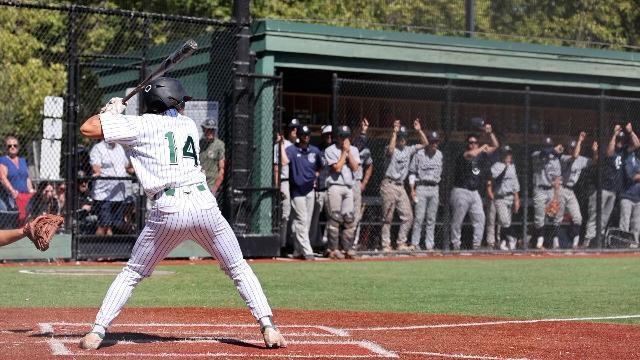bat: (124, 38, 200, 102)
